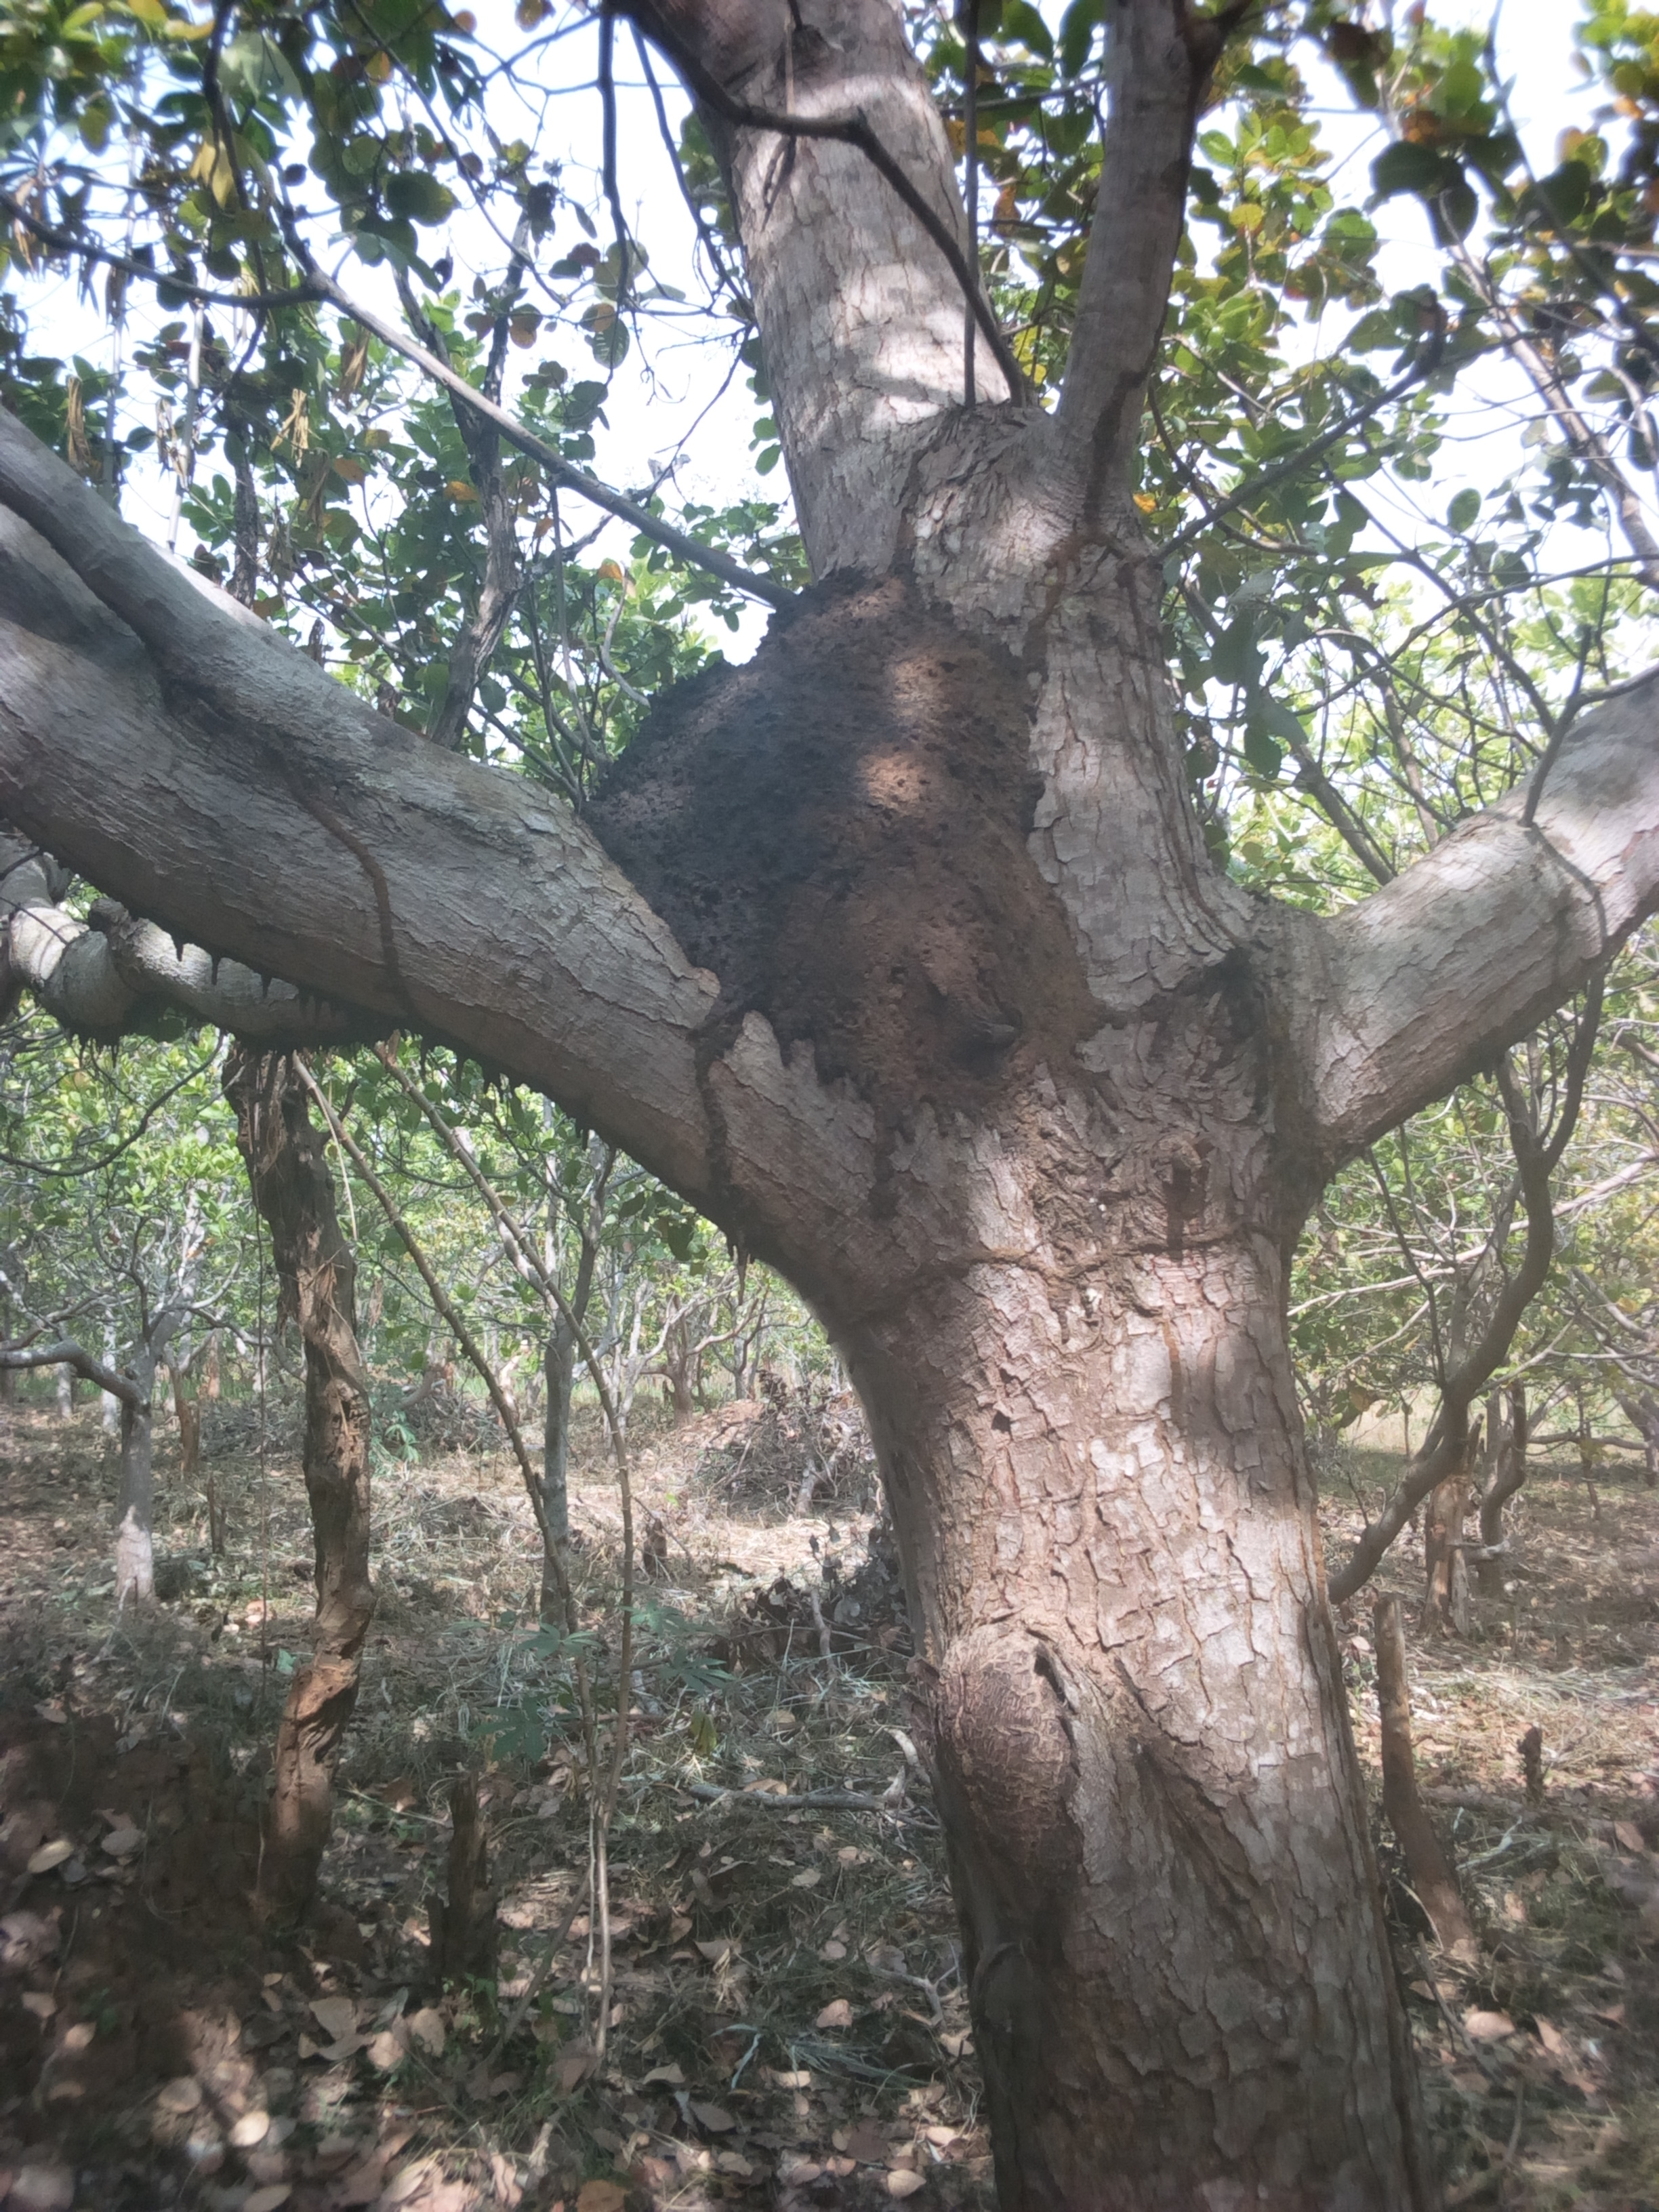Termites: (660, 594, 1117, 1113), (1229, 960, 1349, 1195)
